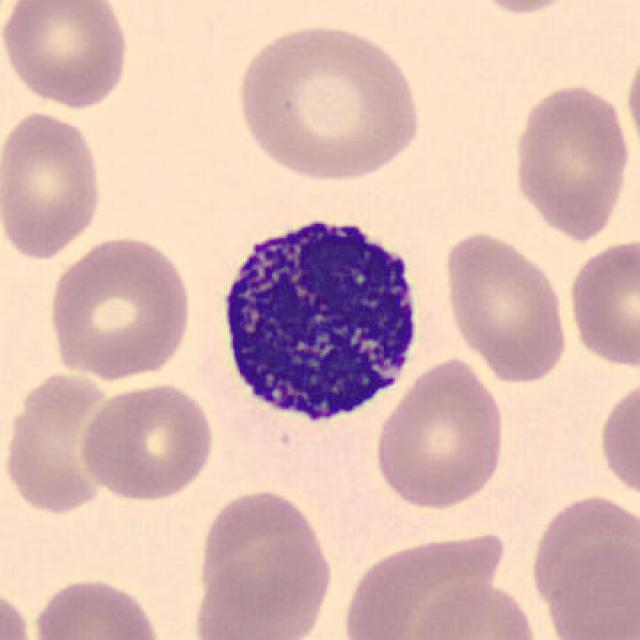Basophil: (210, 198, 430, 436)
RBC: (231, 18, 427, 185), (42, 232, 196, 382), (370, 354, 510, 513), (506, 79, 634, 245), (439, 228, 573, 386), (338, 525, 508, 640), (194, 485, 334, 612), (75, 379, 217, 504), (0, 105, 107, 262), (5, 374, 115, 512), (0, 0, 133, 111), (188, 541, 336, 640), (533, 492, 640, 623), (539, 534, 638, 640), (564, 234, 638, 370), (29, 573, 167, 640), (405, 576, 543, 640), (596, 372, 638, 506), (452, 0, 594, 16), (624, 36, 640, 168), (0, 583, 35, 640)
